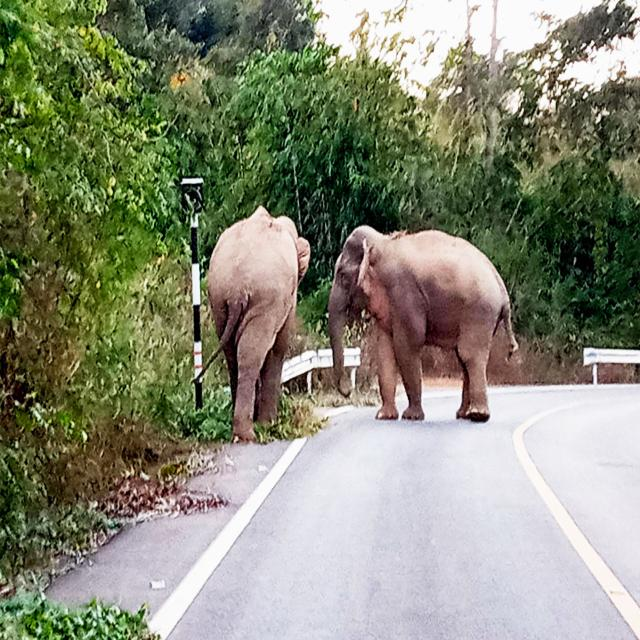Elephant: (328, 210, 524, 428), (202, 200, 310, 439)
